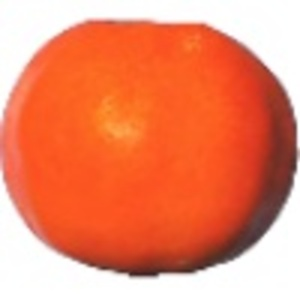tangerina: (1, 17, 300, 279)
